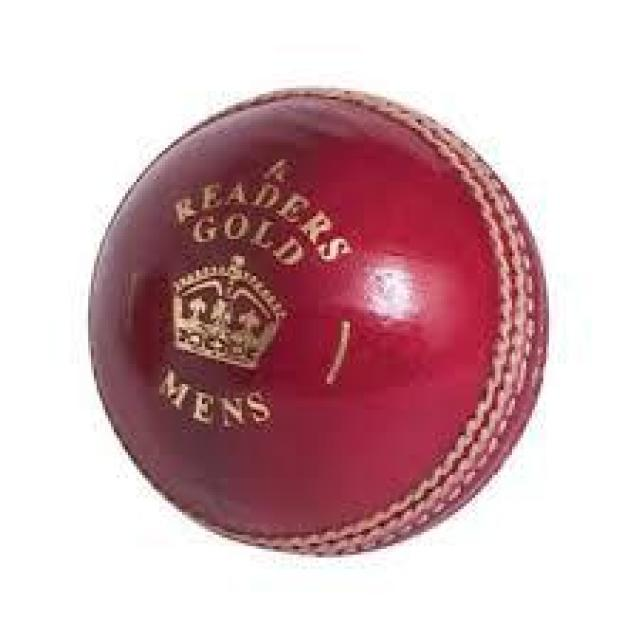ball: (88, 91, 555, 558)
